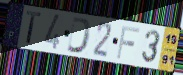2: (91, 22, 112, 59)
3: (140, 29, 161, 65)
4: (43, 12, 61, 52)
D: (65, 15, 93, 55)
F: (115, 25, 142, 61)
T: (25, 9, 43, 47)
